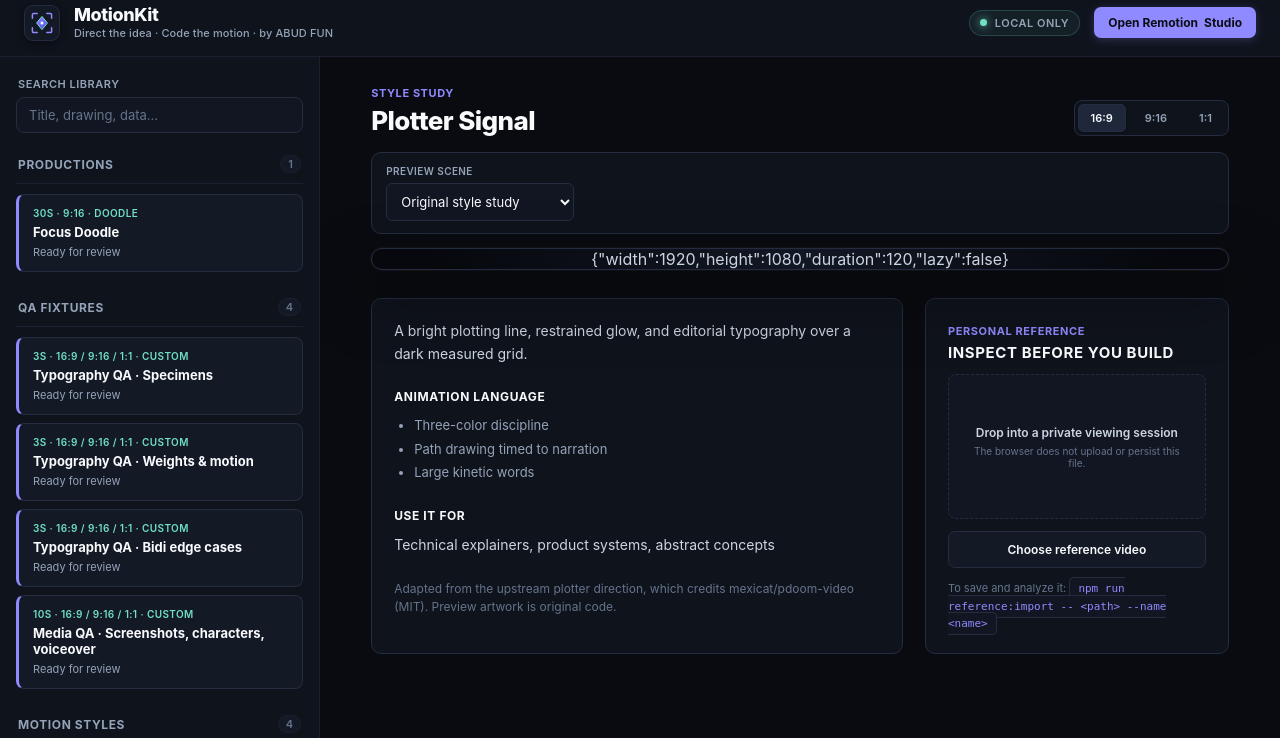
local visual library › previews and edits distinct style scene roles without changing the original study
Expected: the text named "Animation preview" is shown, [591,249,1009,269]
Select "Opening / title" in the dropdown labelled "Preview scene". click: (480, 202)
box: [386,183,574,221]
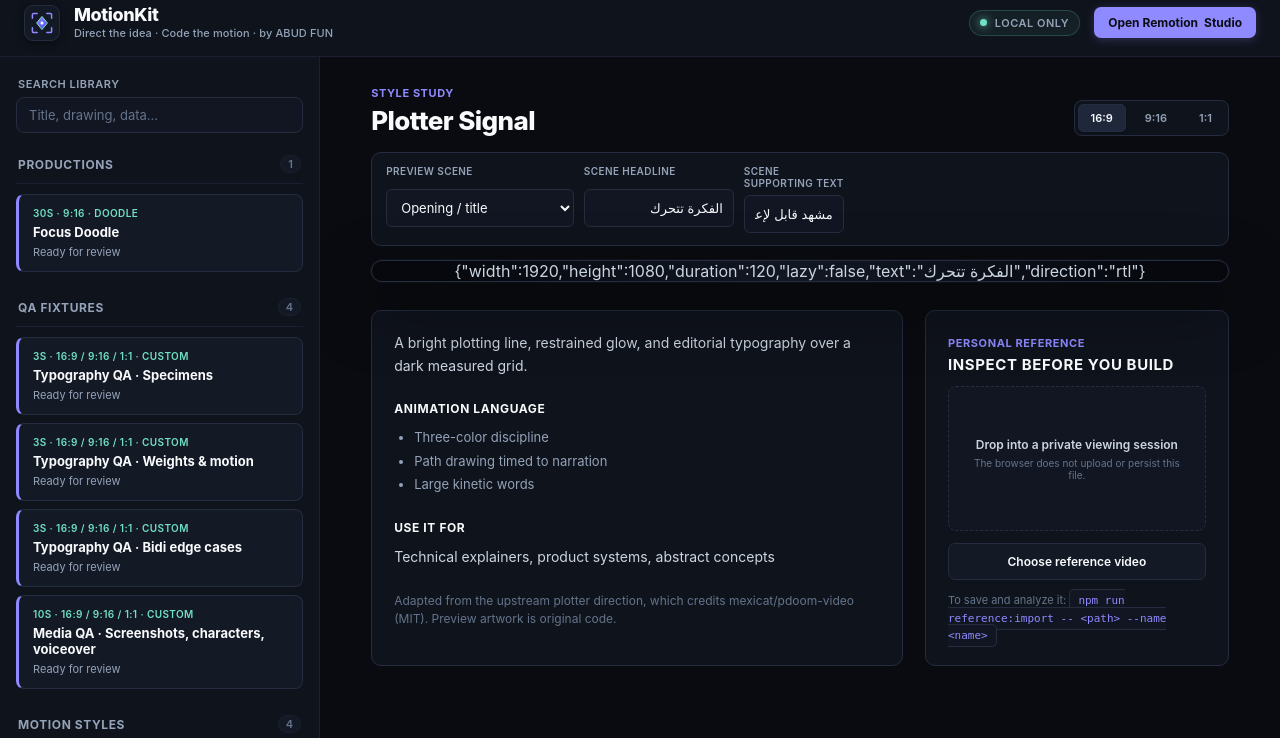
Replace the text in the field labelled "Scene headline" with "عنوان تجريبي". click: (659, 208)
box: [584,189,734,227]
(page scrolled)
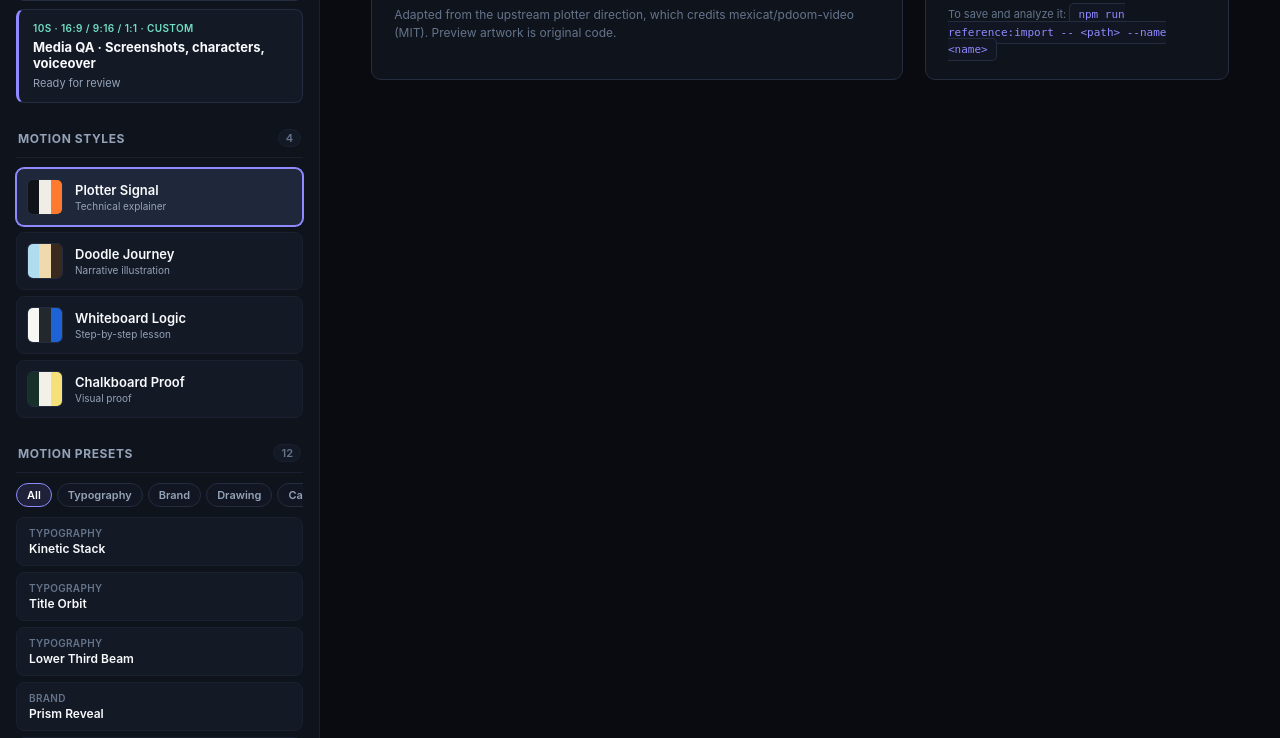
Click the button "Chalkboard Proof Visual proof". click: click(160, 389)
box: [16,360,303,418]
(page scrolled)
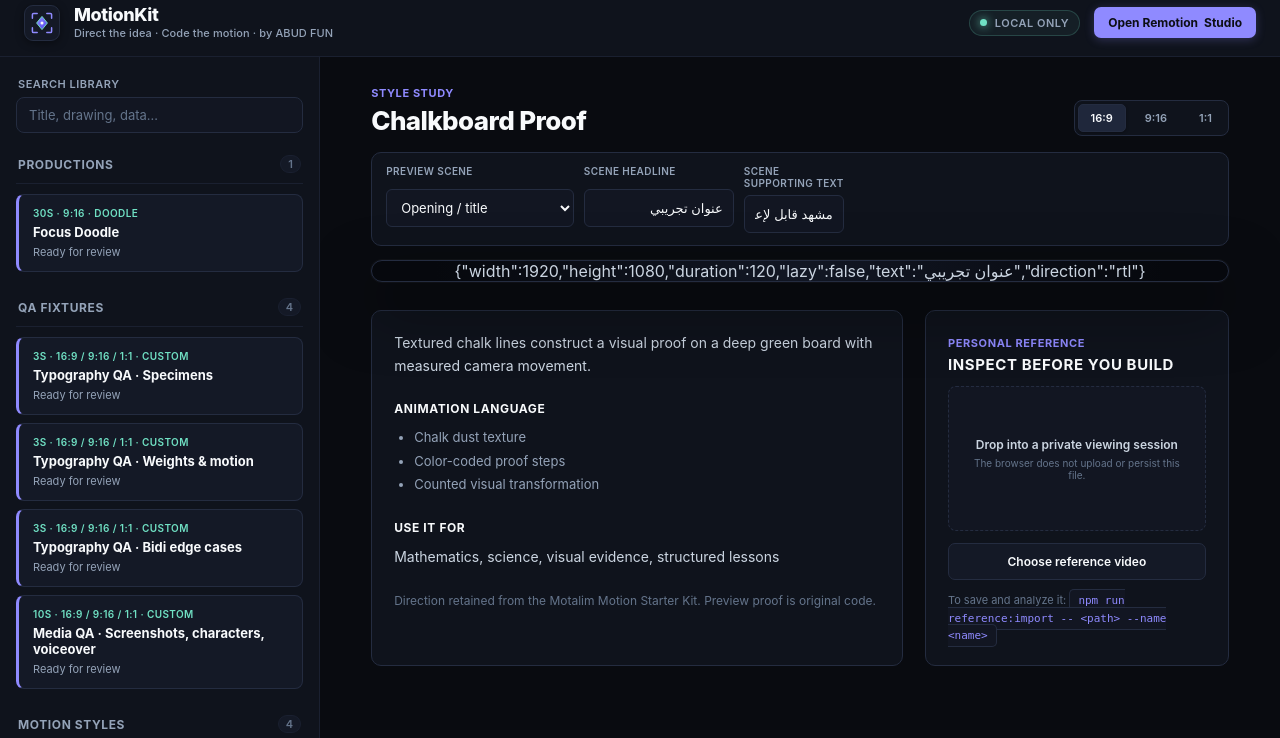
Select "Explainer beat" in the dropdown labelled "Preview scene". click: (480, 208)
box: [386,189,574,227]
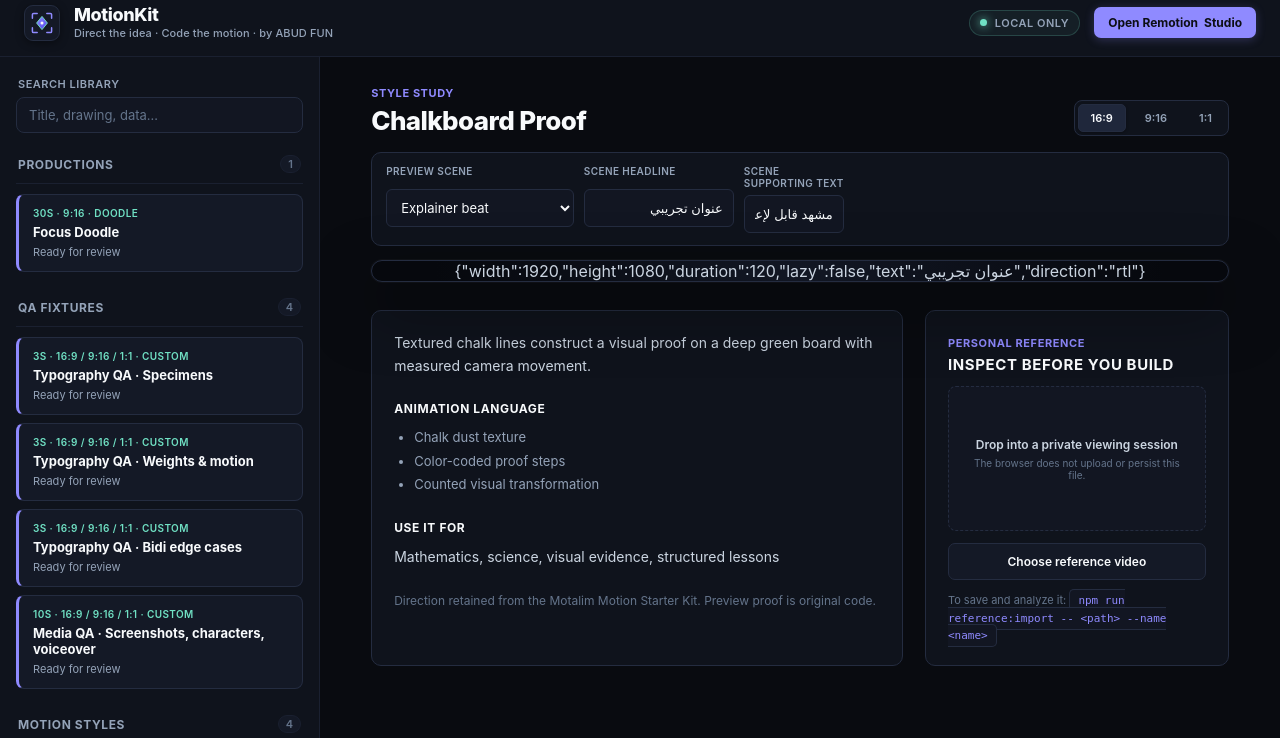
Result: the text named "Animation preview" shows "عنوان تجريبي" at [454,261,1146,281]
Select "Original style study" in the dropdown labelled "Preview scene". click: (480, 208)
box: [386,189,574,227]
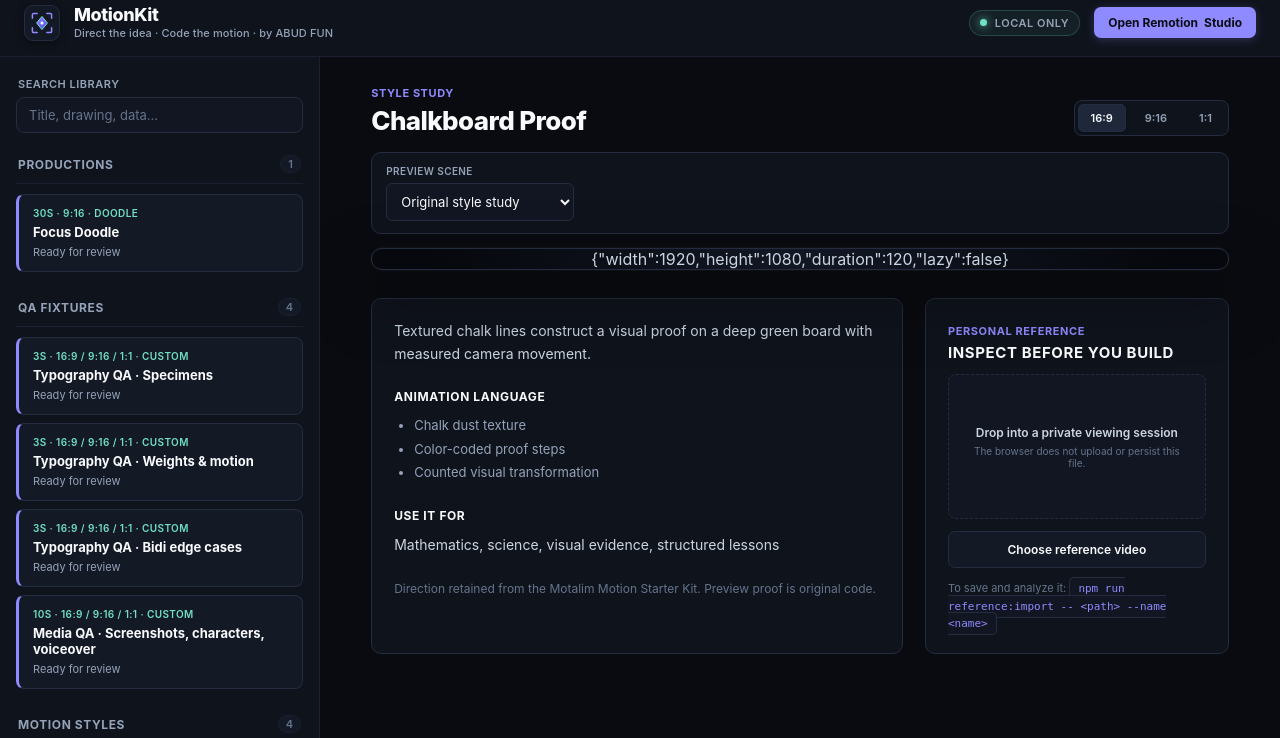
Result: the text "Scene headline" is gone
